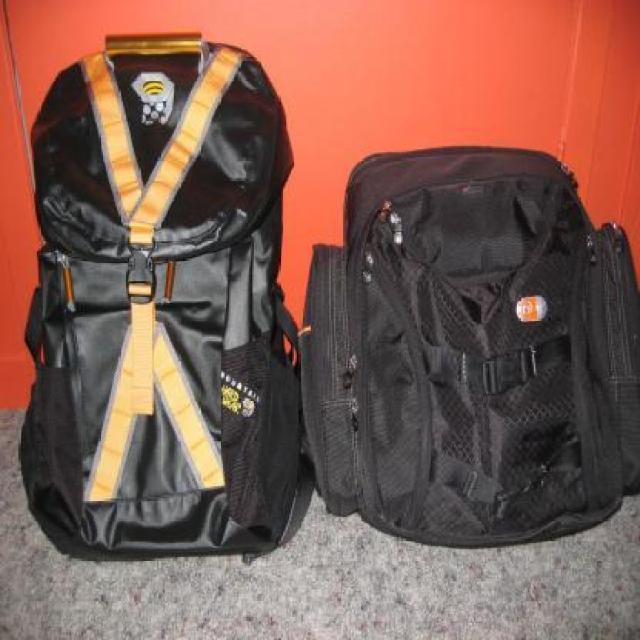backpack: (18, 24, 300, 562), (295, 145, 640, 557)
